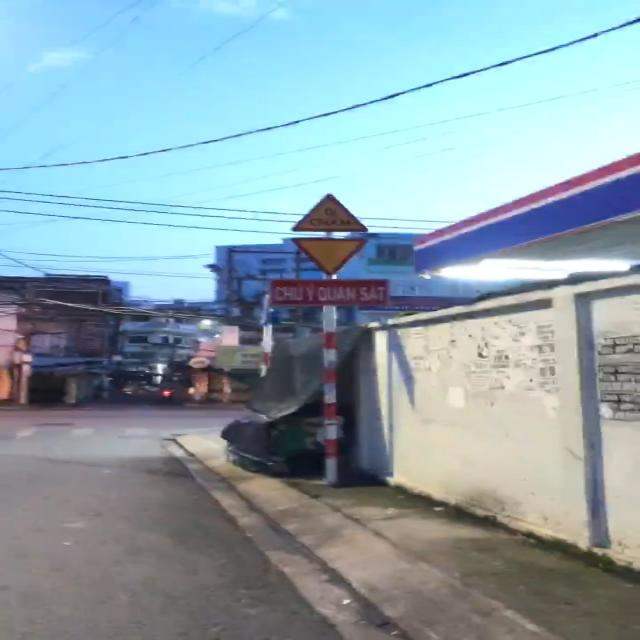Bien bao di cham: (284, 186, 368, 234)
Bien bao giao nhau voi duong uu tien: (281, 233, 378, 277)
